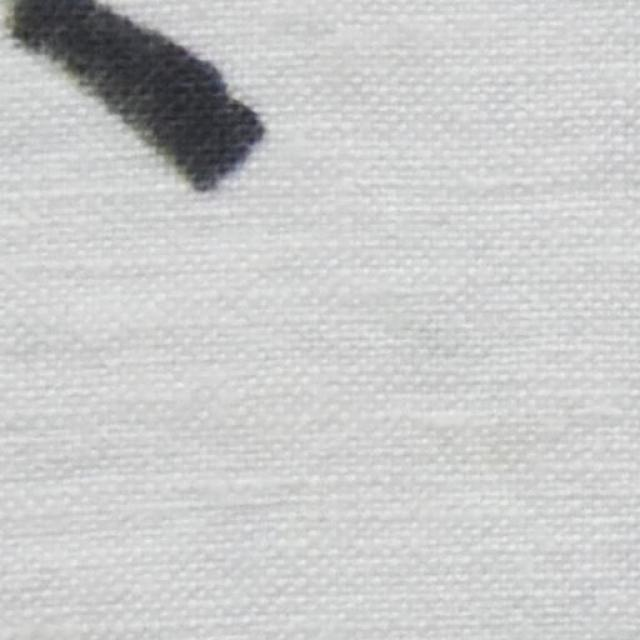Stain: (2, 0, 275, 198)
